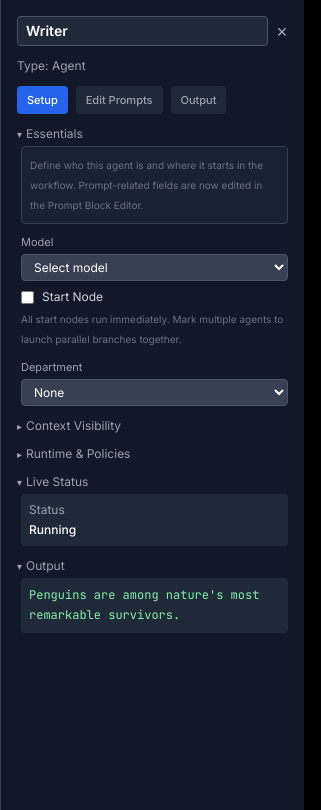
Test: AgentInspector output parity › prefers the canonical structured chat snippet in the live output section and keeps output text readable
This screenshot has width=321, height=810.
Expected: the text "Penguins are among nature's most remarkable survivors." is shown, x1=21 y1=578 x2=288 y2=633
Click the button "Output" at (198, 100), box x1=170 y1=86 x2=226 y2=114
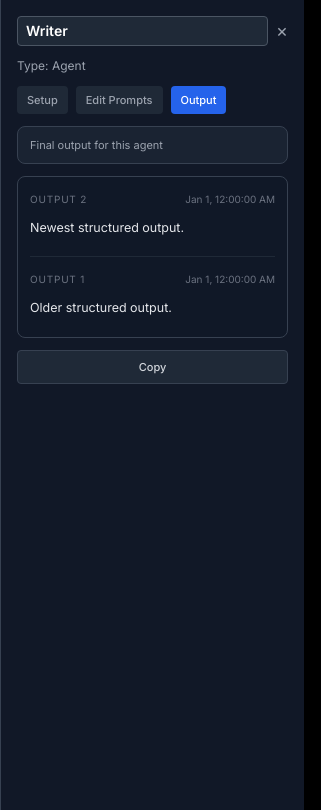
Expected: the element showing "Output 2 Jan 1, 12:00:00 AM Newest structured output." is shown, x1=30 y1=189 x2=275 y2=244
Expected: the element showing "Output 1 Jan 1, 12:00:00 AM Older structured output." is shown, x1=30 y1=256 x2=275 y2=325
